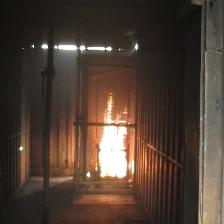fire: (98, 92, 130, 178)
